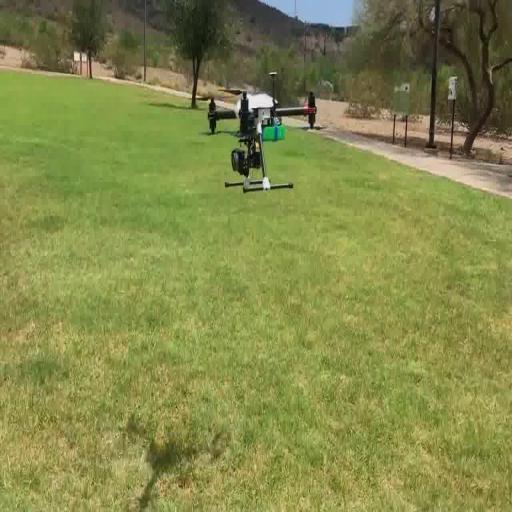drone: (200, 80, 318, 193)
